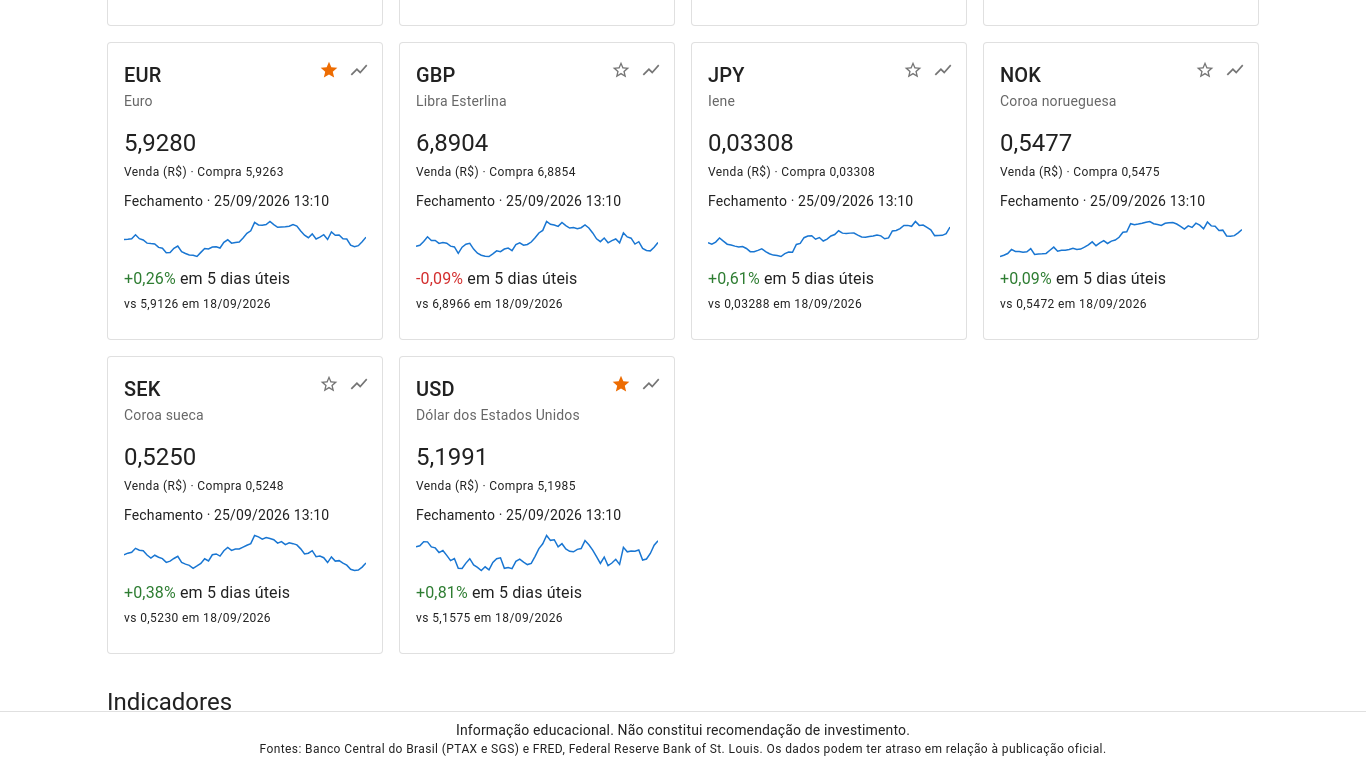
Test case: App › should show in the chart modal the same variation the card shows for the currency
This screenshot has width=1366, height=768.
(page scrolled)
Expected: the list item named "Ver gráfico de USD" shows "+0,81% em 5 dias úteis", x1=399 y1=356 x2=675 y2=654
Expected: the list item named "Ver gráfico de USD" shows "vs 5,1575 em 18/09/2026", x1=416 y1=611 x2=563 y2=625
Click the button named "Ver gráfico de USD" at (651,384), box x1=636 y1=369 x2=666 y2=399
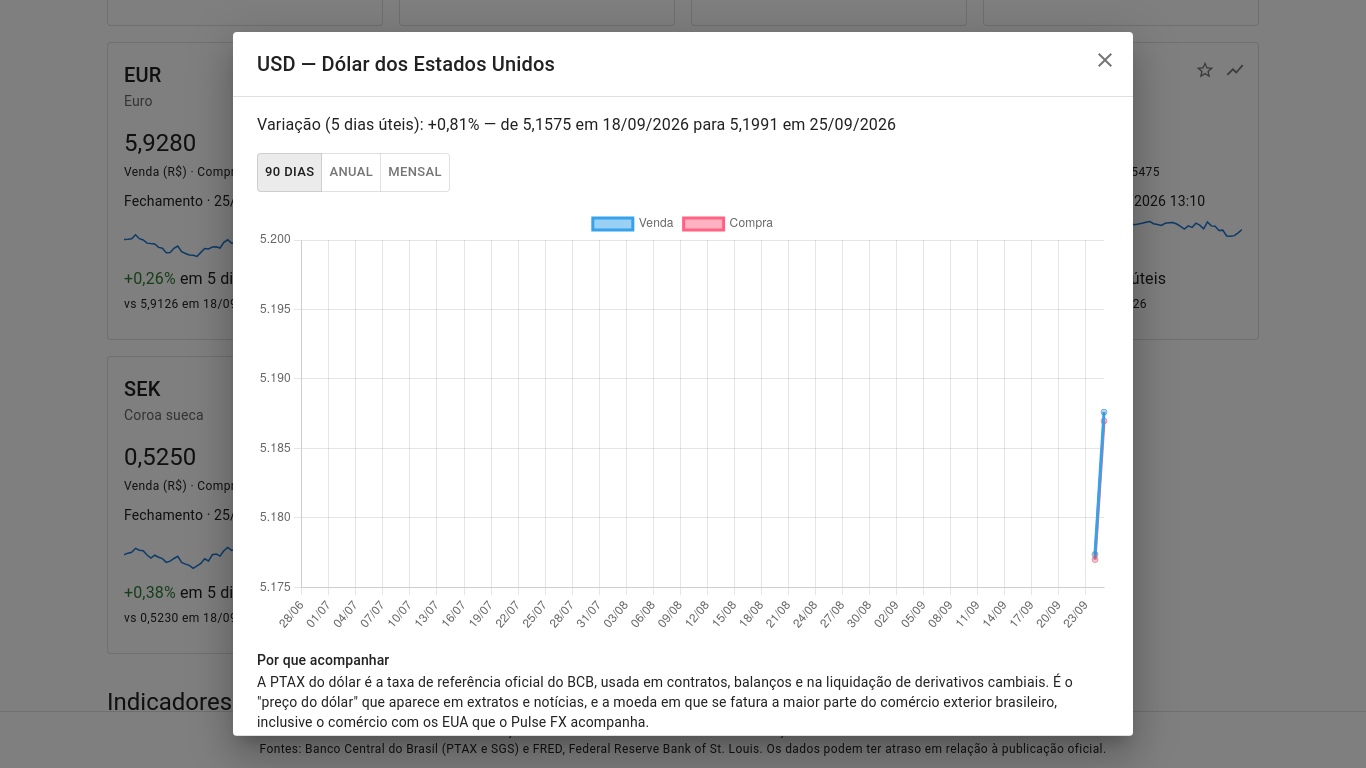
Now the text "Variação (5 dias úteis): +0,81% — de 5,1575 em 18/09/2026 para 5,1991 em 25/09/2026" is shown, box x1=257 y1=115 x2=896 y2=134
